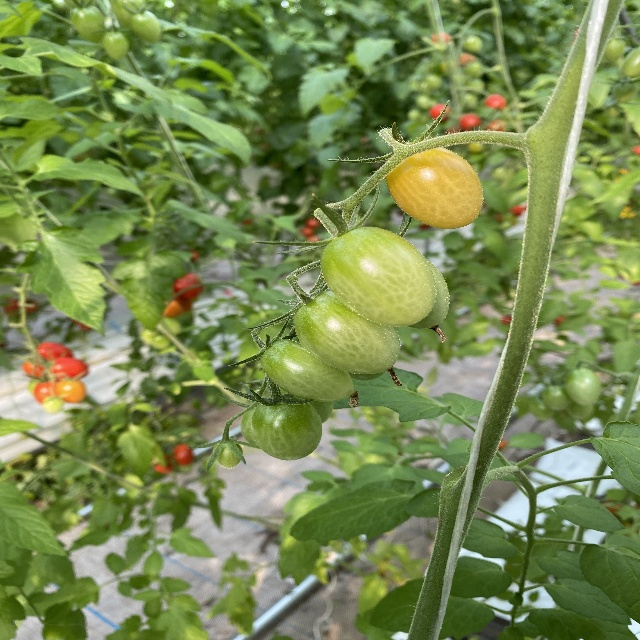l_green: (321, 227, 436, 327), (294, 290, 402, 375), (259, 339, 353, 402), (249, 395, 321, 461), (405, 257, 450, 330), (213, 439, 243, 468)
l_half_ripened: (384, 147, 484, 230)
